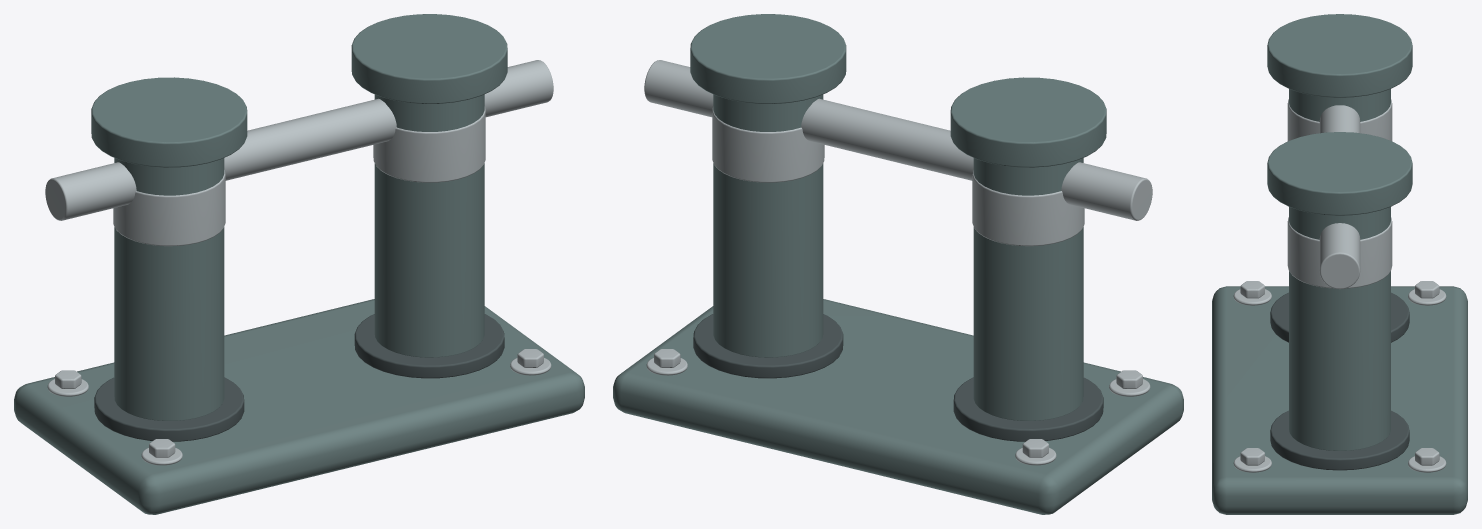
File: deck_double_bitt.glb
3 views of the same model, side by side, from view 1: azimuth 30°, elevation 25°; view 2: azimuth 150°, elevation 25°; view 3: azimuth 270°, elevation 25° (orthographic). The views are drawn at different scales.
Visible parts, largest first — view 1: Warm white painted steel, Fixed_Stainless, Fixed_DarkMetal; view 2: Warm white painted steel, Fixed_Stainless, Fixed_DarkMetal; view 3: Warm white painted steel, Fixed_Stainless, Fixed_DarkMetal.
Boxes of the visible parts, bbox=[...] form: Warm white painted steel: bbox=[14, 14, 584, 514]; Fixed_Stainless: bbox=[45, 60, 553, 465]; Fixed_DarkMetal: bbox=[94, 314, 504, 441]; Warm white painted steel: bbox=[613, 14, 1183, 514]; Fixed_Stainless: bbox=[644, 60, 1152, 465]; Fixed_DarkMetal: bbox=[693, 314, 1103, 441]; Warm white painted steel: bbox=[1212, 14, 1467, 514]; Fixed_Stainless: bbox=[1233, 99, 1446, 472]; Fixed_DarkMetal: bbox=[1270, 292, 1409, 470].
Size of the model in its own units: 0.9 by 0.6 by 0.44.
